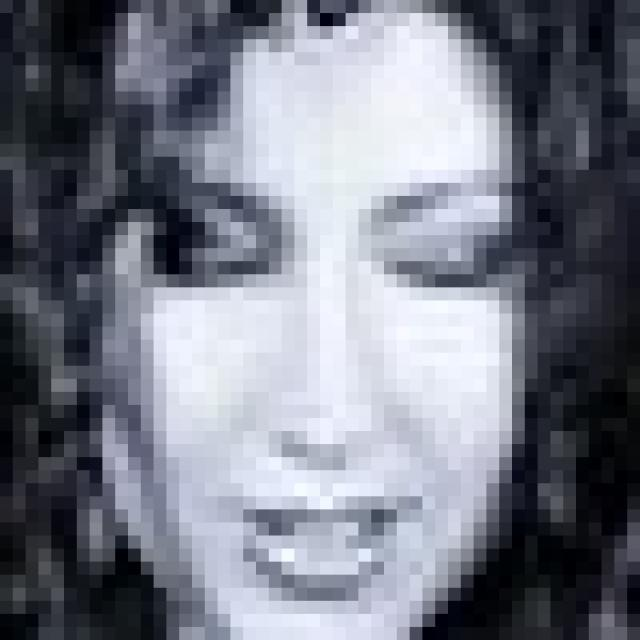Eyeclosed: (386, 248, 493, 297), (165, 247, 266, 287)
